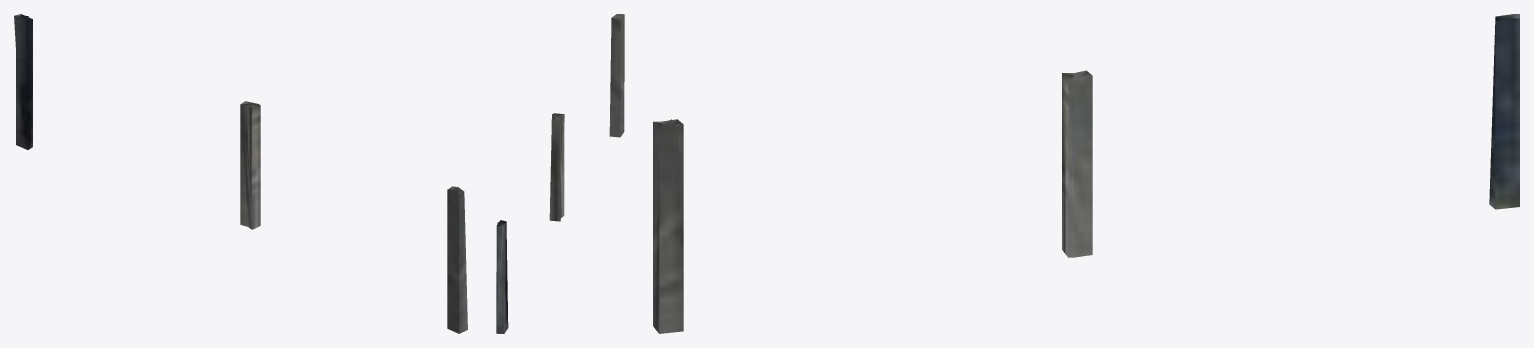
3 views of the same model, side by side, from view 1: azimuth 30°, elevation 25°; view 2: azimuth 150°, elevation 25°; view 3: azimuth 270°, elevation 25° (orthographic). The views are drawn at different scales.
Visible parts, largest first — view 1: 30436272704370425276_0; view 2: 30436272704370425276_0; view 3: 30436272704370425276_0.
Part boxes in pixels (x1,y1,x2,y2): 30436272704370425276_0: (14, 14, 467, 333); 30436272704370425276_0: (496, 14, 624, 333); 30436272704370425276_0: (653, 14, 1519, 333).
Size of the model in its own units: 6.91 by 5.7 by 21.9.
1 material, 1 textured.
